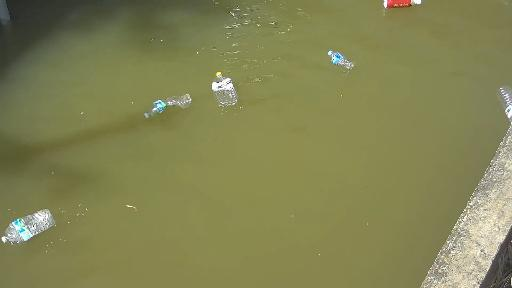plastic: (2, 210, 70, 251), (202, 68, 242, 115), (475, 77, 512, 120), (141, 95, 201, 117), (322, 45, 367, 72), (366, 0, 438, 5)
